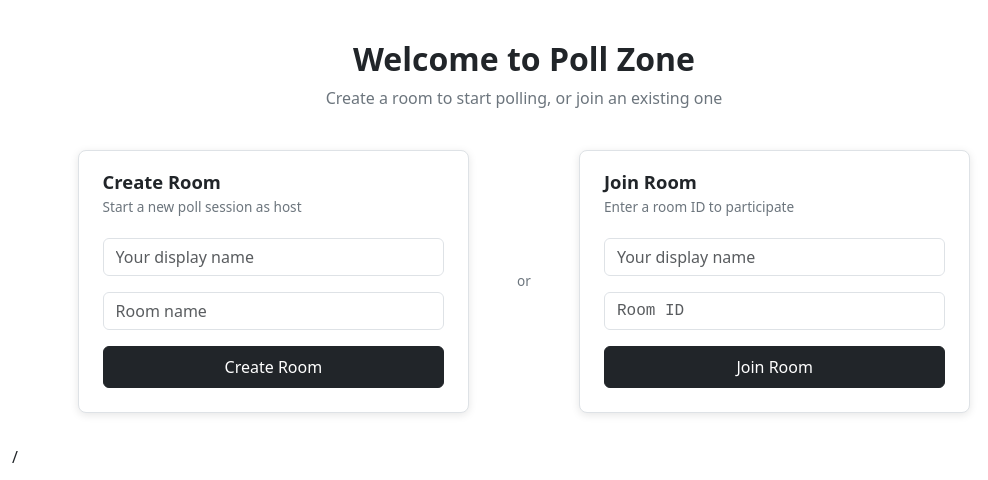
Test: Home Flow Tests › Host Create Room Flow › creates room and shows toast with room ID
This screenshot has width=988, height=480.
Type "Alice" into the field with placeholder "Your display name" below "Start a new poll session as host". click: (273, 257)
box: [103,238,444,276]
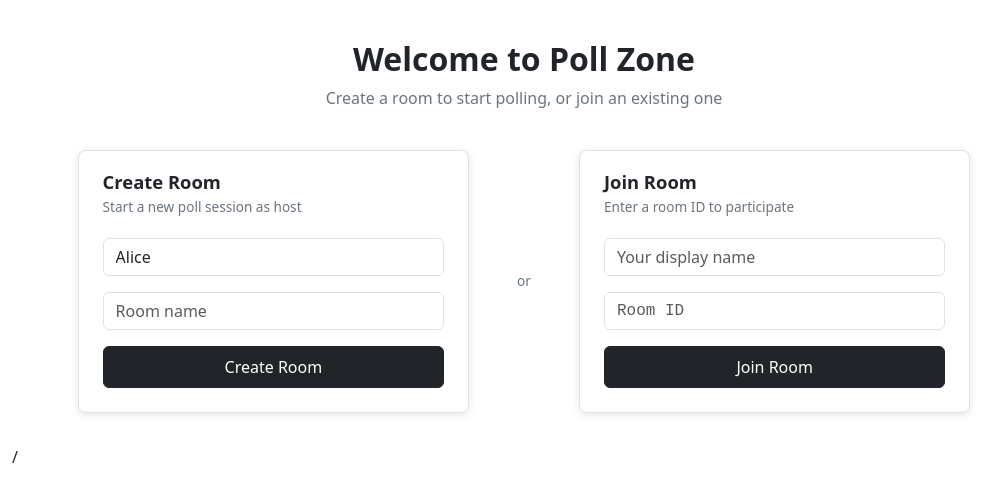
Type "Sprint Review" into the field with placeholder "Room name". click: (273, 311)
box: [103,292,444,330]
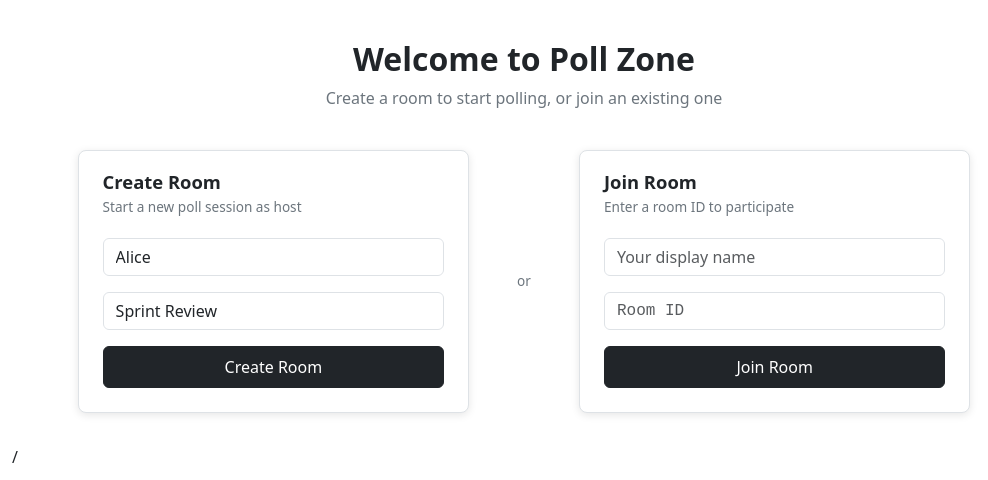
Click the button "Create Room". click: click(273, 367)
box: [103,346,444,388]
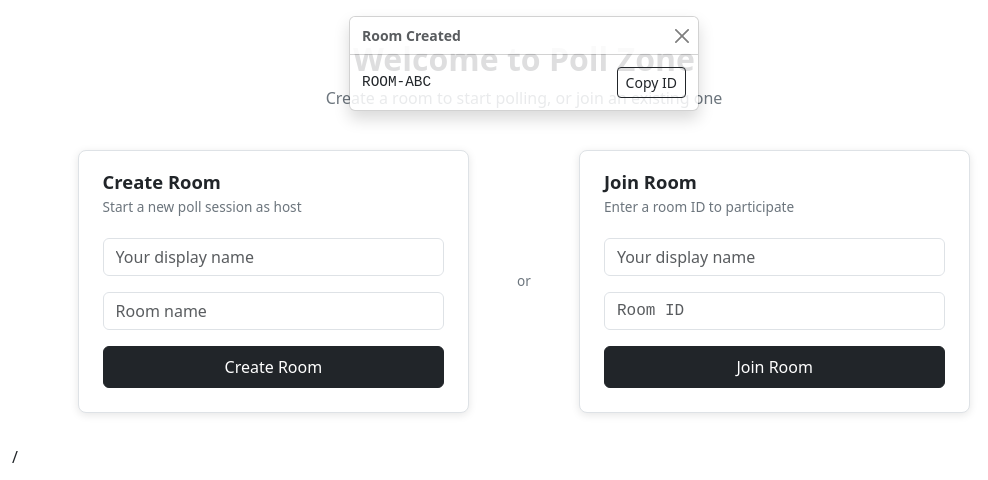
Now the text "ROOM-ABC" is shown, box [362,72,431,93]
Now the text "Room Created" is shown, box [362,25,461,46]
